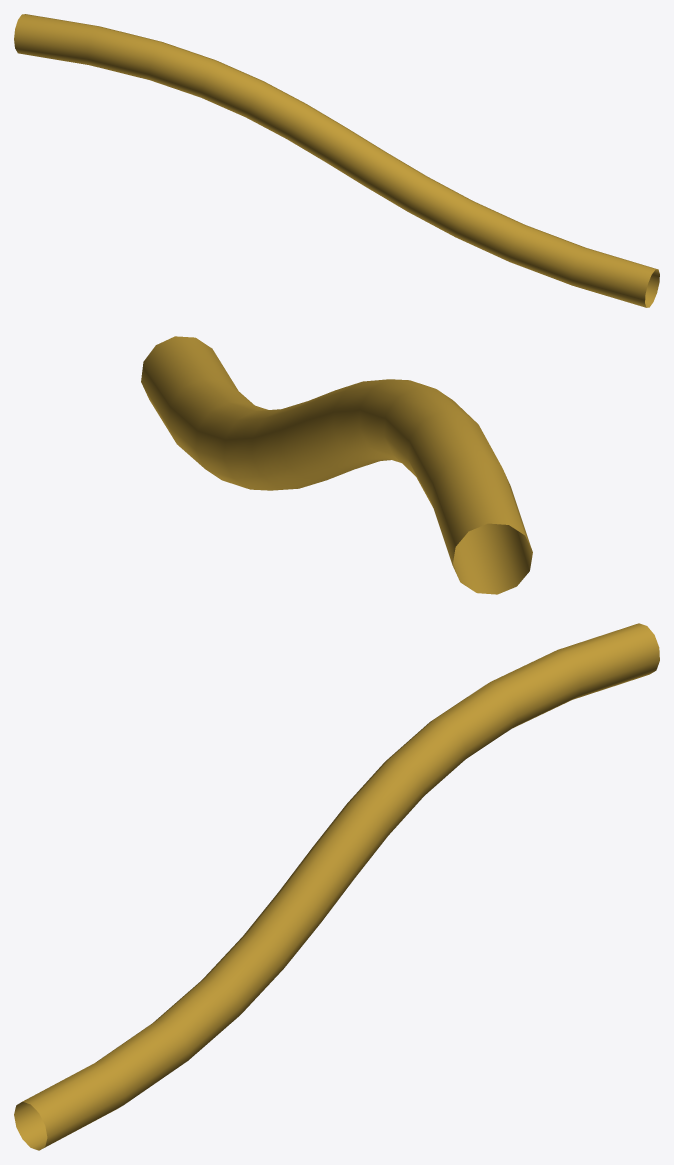
The picture shows the model from 3 angles, top to bottom: view 1: azimuth 30°, elevation 25°; view 2: azimuth 150°, elevation 25°; view 3: azimuth 270°, elevation 25°; orthographic projection. The views are drawn at different scales.
Visible parts, largest first — view 1: 右侧臂丛上干; view 2: 右侧臂丛上干; view 3: 右侧臂丛上干.
Boxes of the visible parts, <box> form: 右侧臂丛上干: <box>14,14,659,307</box>; 右侧臂丛上干: <box>141,336,532,594</box>; 右侧臂丛上干: <box>14,623,659,1150</box>.
Bounding box in the file's own units: 0.0527 × 0.0256 × 0.0542.
